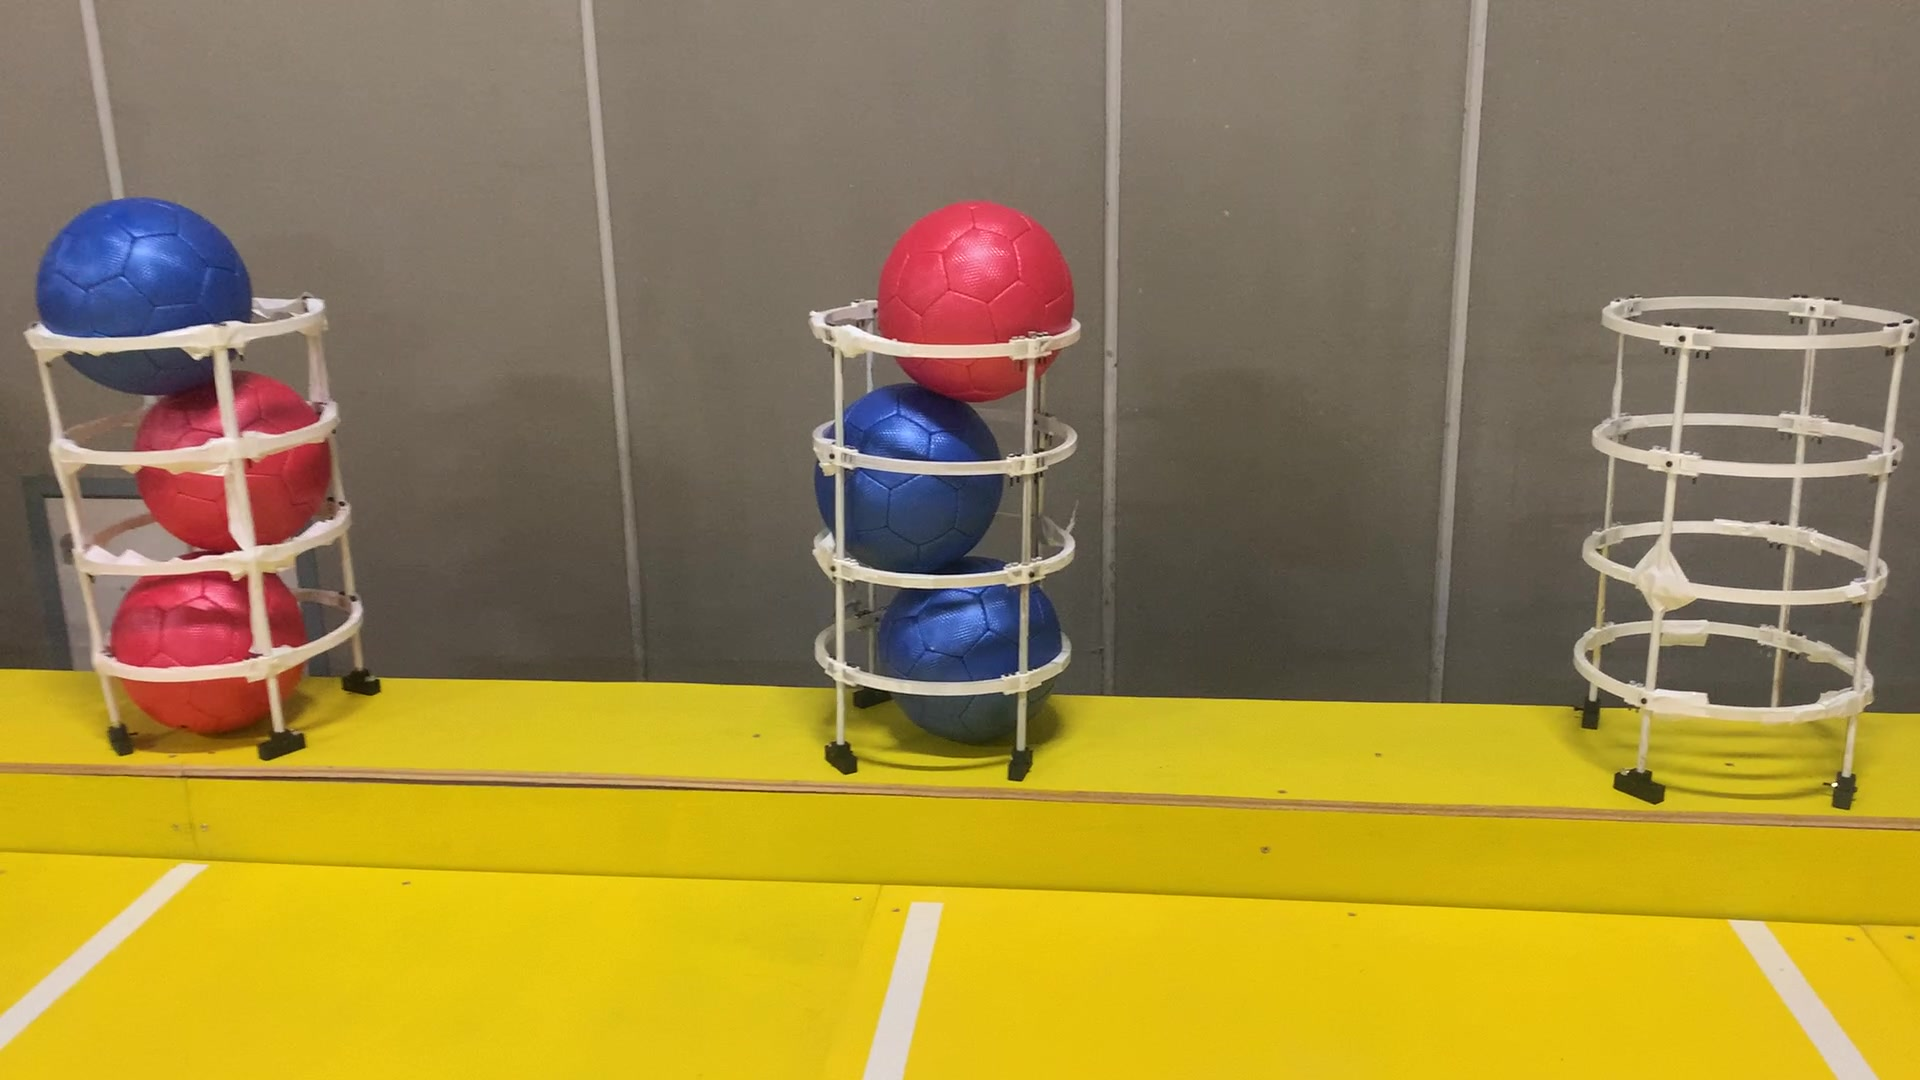blue: (34, 203, 269, 398), (810, 377, 1013, 567), (873, 546, 1064, 735)
red: (881, 191, 1088, 402), (100, 553, 319, 737), (125, 355, 326, 549)
